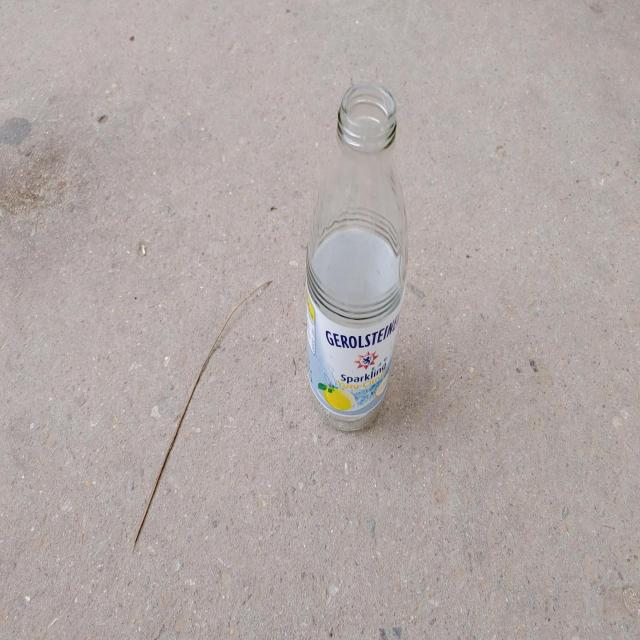glass: (306, 82, 408, 430)
